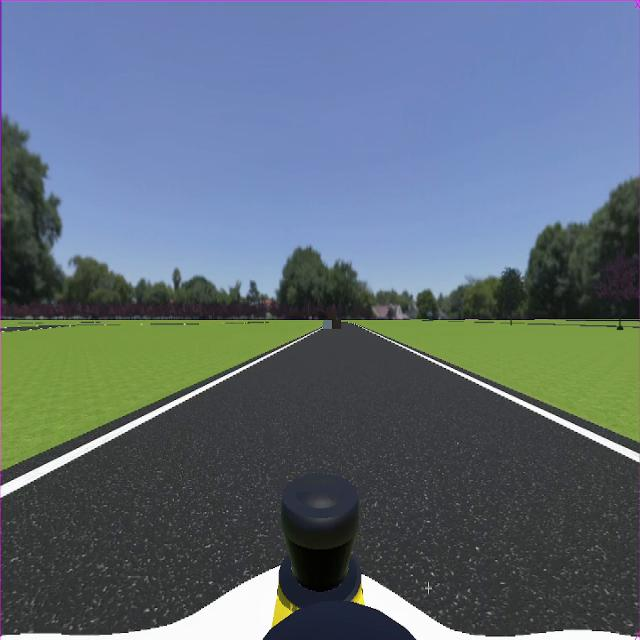road: (2, 326, 638, 634)
solid_line: (1, 330, 319, 499), (368, 331, 640, 463)
